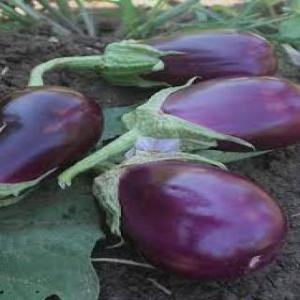eggplant: (100, 156, 282, 276), (146, 76, 298, 150), (102, 28, 276, 86)
